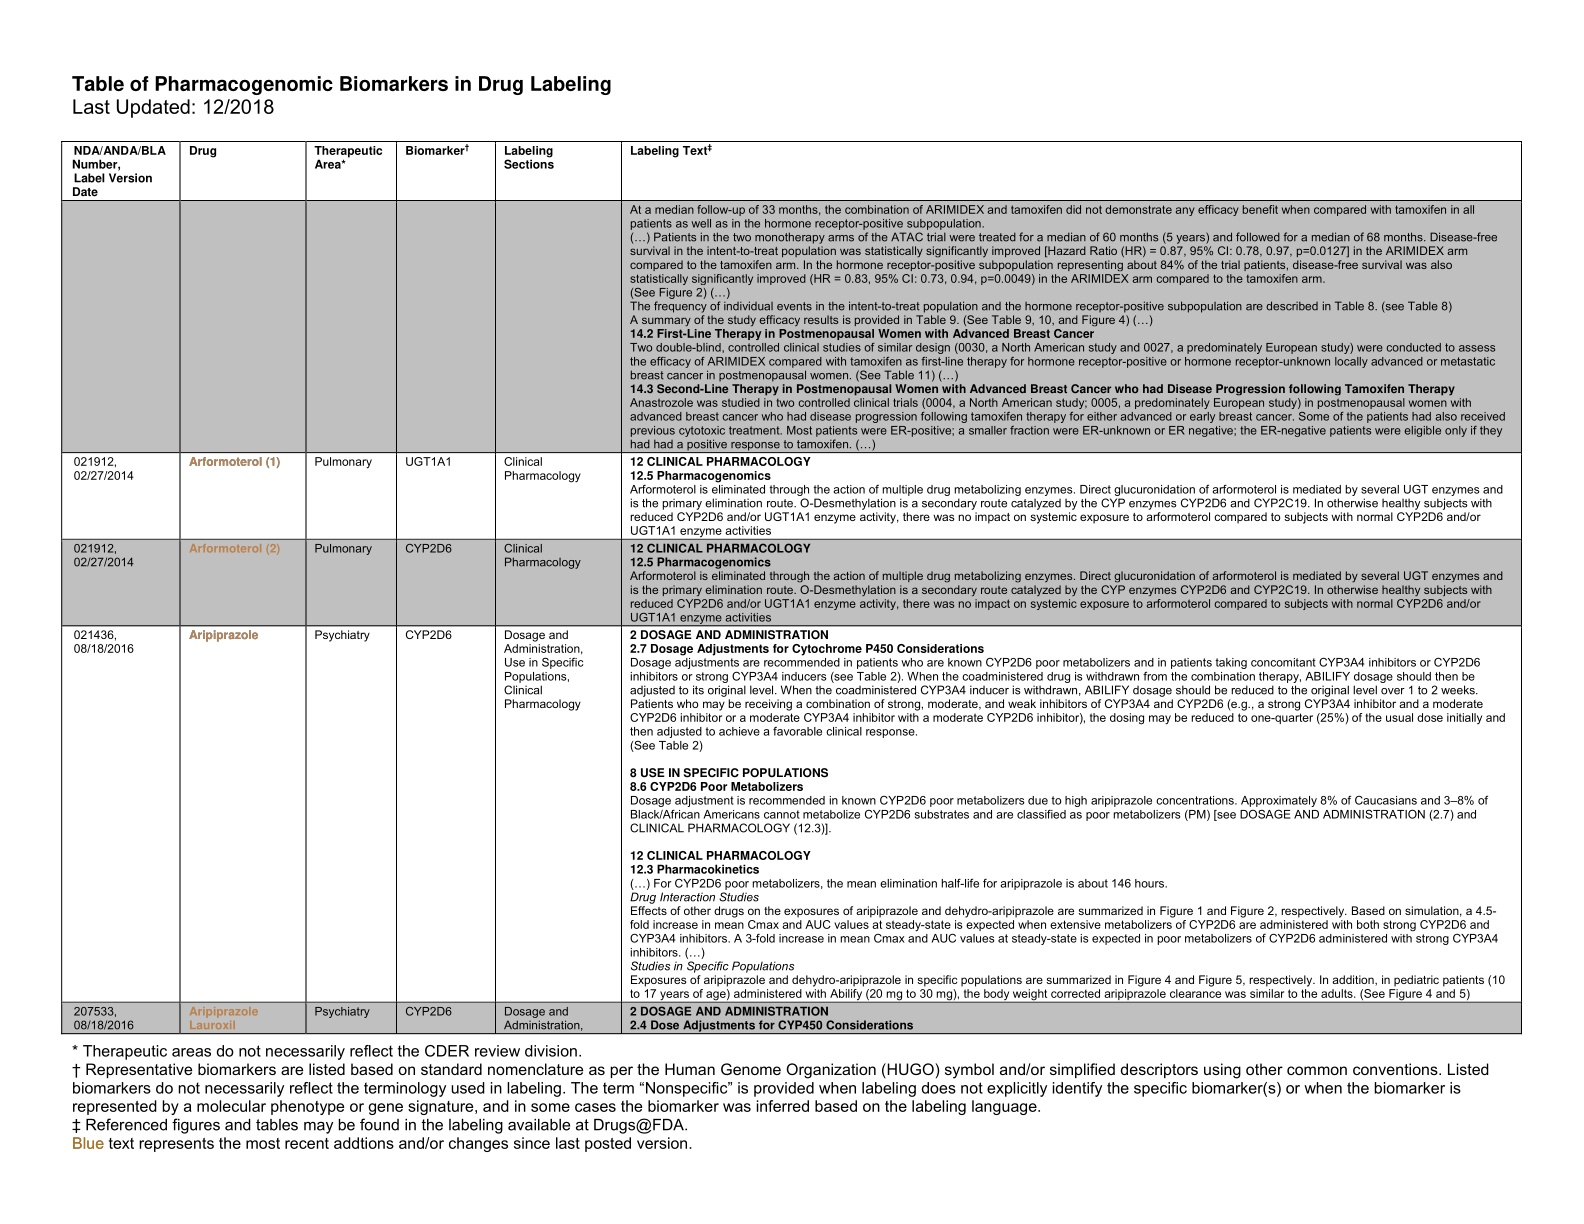full_lined: (60, 140, 1524, 1035)
